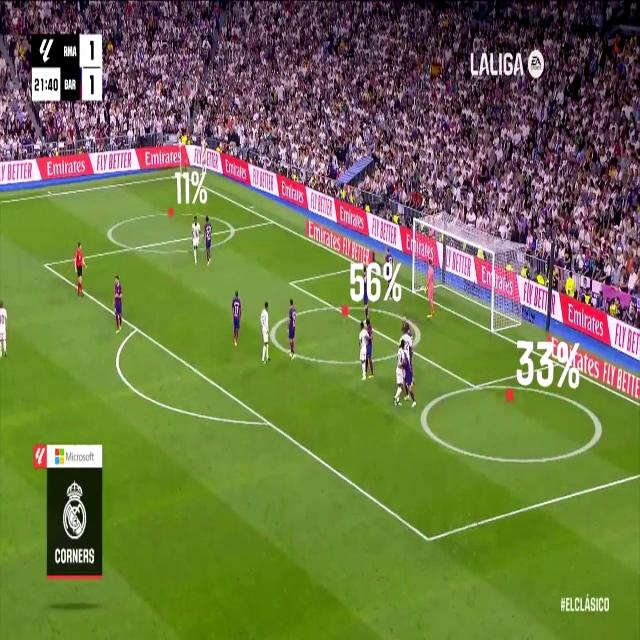bigarea_bottom_inner: (422, 522, 434, 554)
bigarea_top_inner: (42, 255, 50, 274)
bigarea_top_outter: (268, 212, 276, 228)
bottom_arc_area_intersection: (262, 411, 274, 434)
smallarea_top_inner: (286, 274, 296, 290)
smallarea_top_outter: (328, 299, 336, 313)
top_arc_area_intersection: (132, 319, 140, 337)
